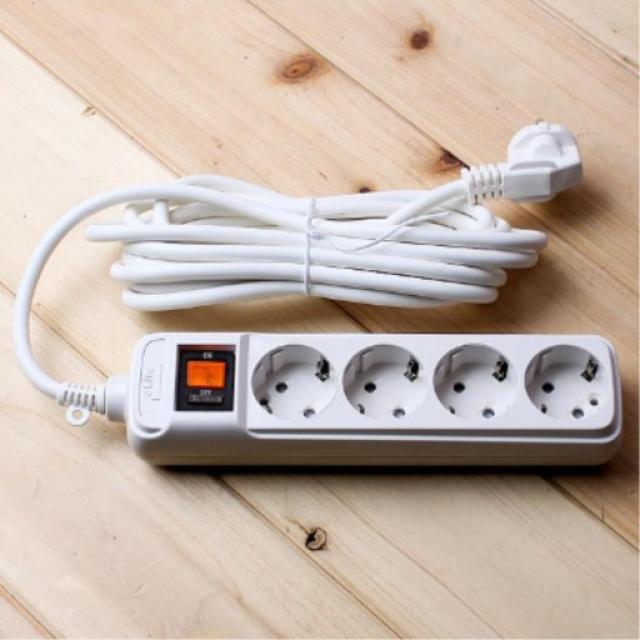typeb: (98, 316, 640, 548)
